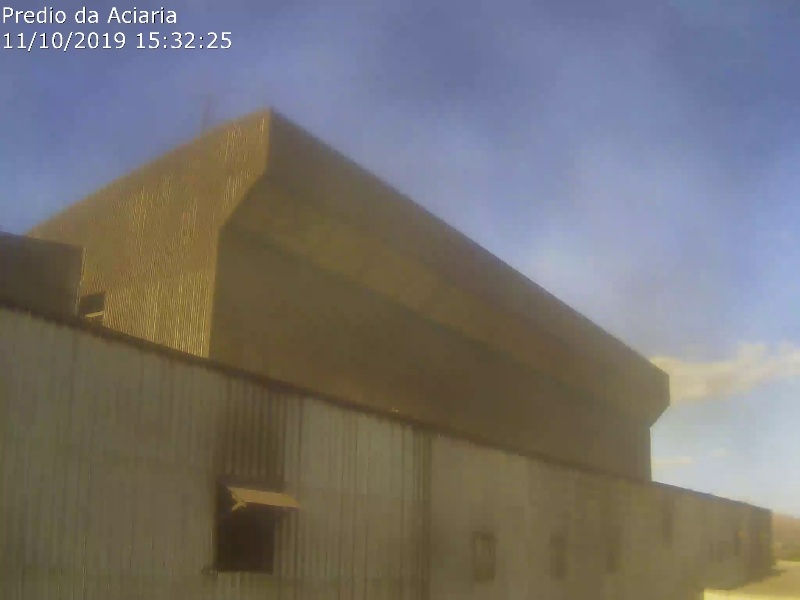ruim: (247, 127, 463, 413), (577, 271, 741, 425)
